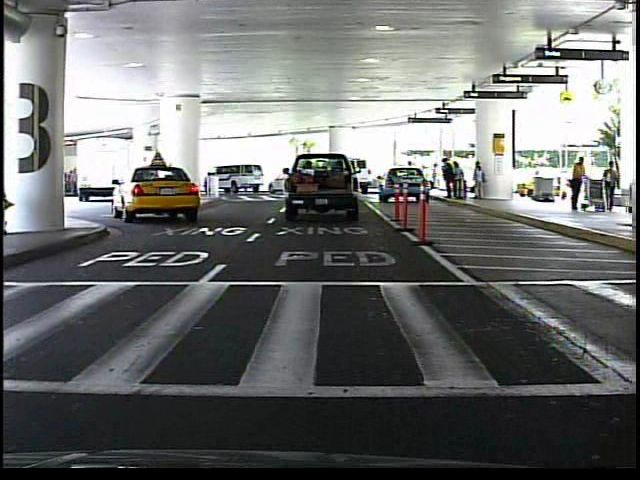person: (565, 153, 590, 215), (600, 158, 622, 214), (404, 158, 420, 193)
